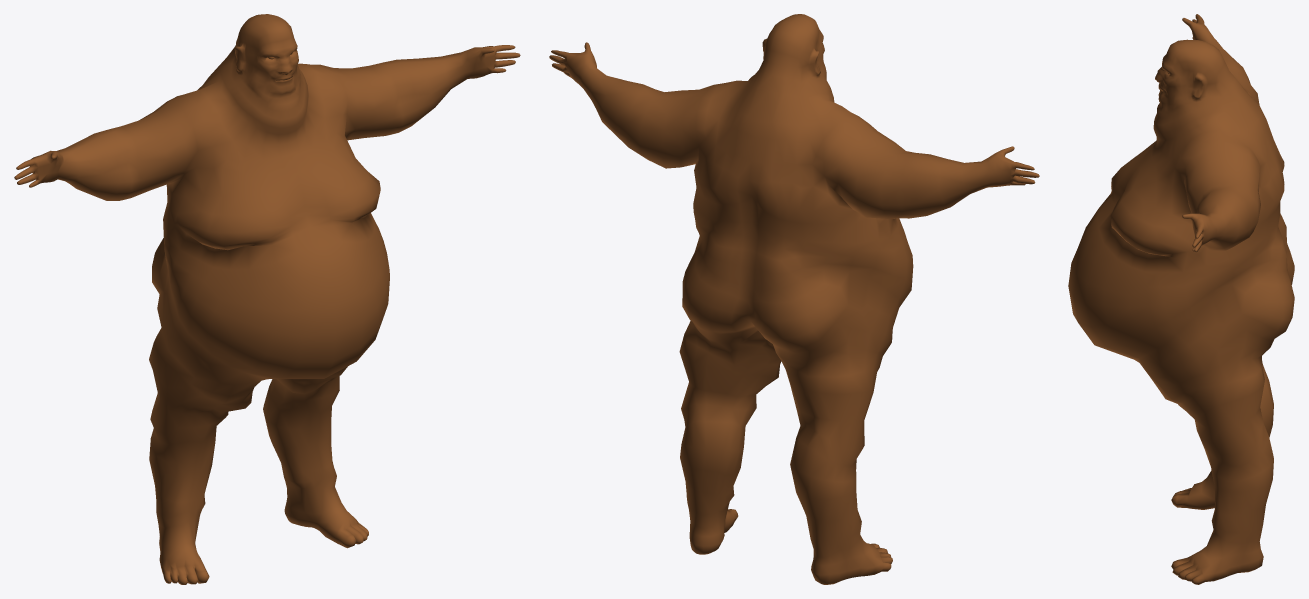
Rendered from FatMale.FBX.
3 views of the same model, side by side, from view 1: azimuth 30°, elevation 25°; view 2: azimuth 150°, elevation 25°; view 3: azimuth 270°, elevation 25° (orthographic). The views are drawn at different scales.
Parts seen in each view (by area): view 1: FatMale_Low001; view 2: FatMale_Low001; view 3: FatMale_Low001.
Part boxes in pixels (x1=…): FatMale_Low001: x1=14, y1=14, x2=520, y2=584; FatMale_Low001: x1=549, y1=14, x2=1039, y2=584; FatMale_Low001: x1=1068, y1=14, x2=1294, y2=584.
Size of the model in its own units: 511 by 216 by 525.
